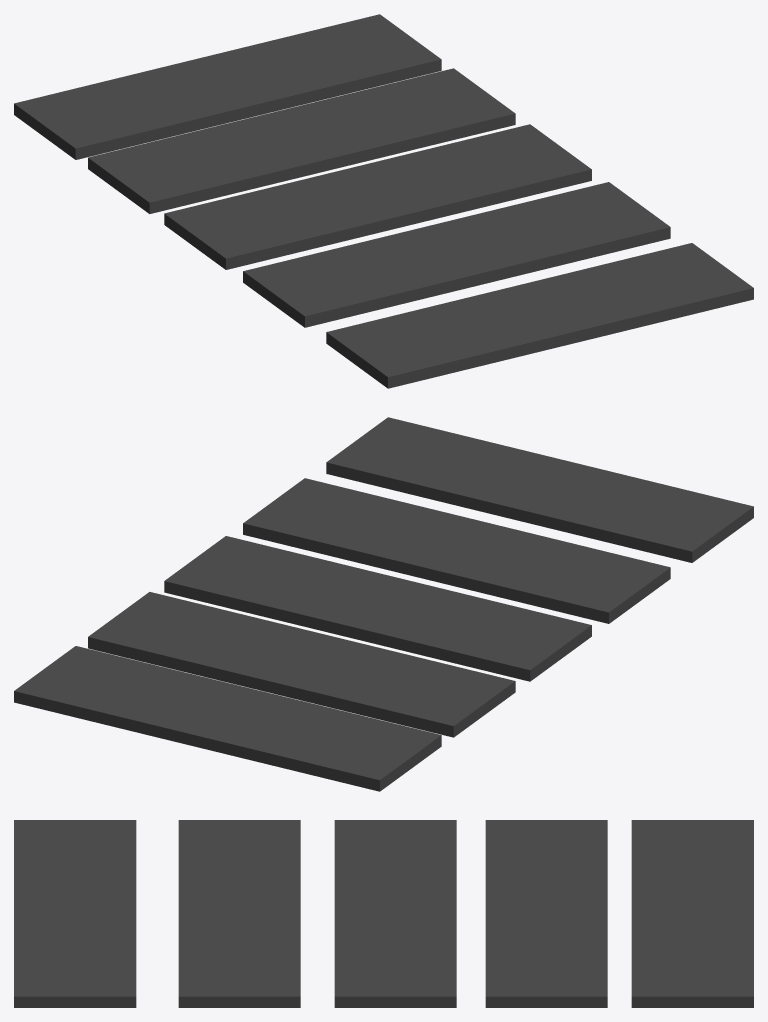
Rendered from StonePath_01.fbx.
The picture shows the model from 3 angles, top to bottom: view 1: azimuth 30°, elevation 25°; view 2: azimuth 150°, elevation 25°; view 3: azimuth 270°, elevation 25°; orthographic projection.
Parts seen in each view (by area): view 1: StonePath_01; view 2: StonePath_01; view 3: StonePath_01.
Boxes of the visible parts, x1,y1,x2,y2 form: StonePath_01: (14, 14, 753, 388); StonePath_01: (14, 417, 753, 791); StonePath_01: (14, 820, 753, 1007).
Bounding box in the file's own units: 568 × 17.04 × 1006.
